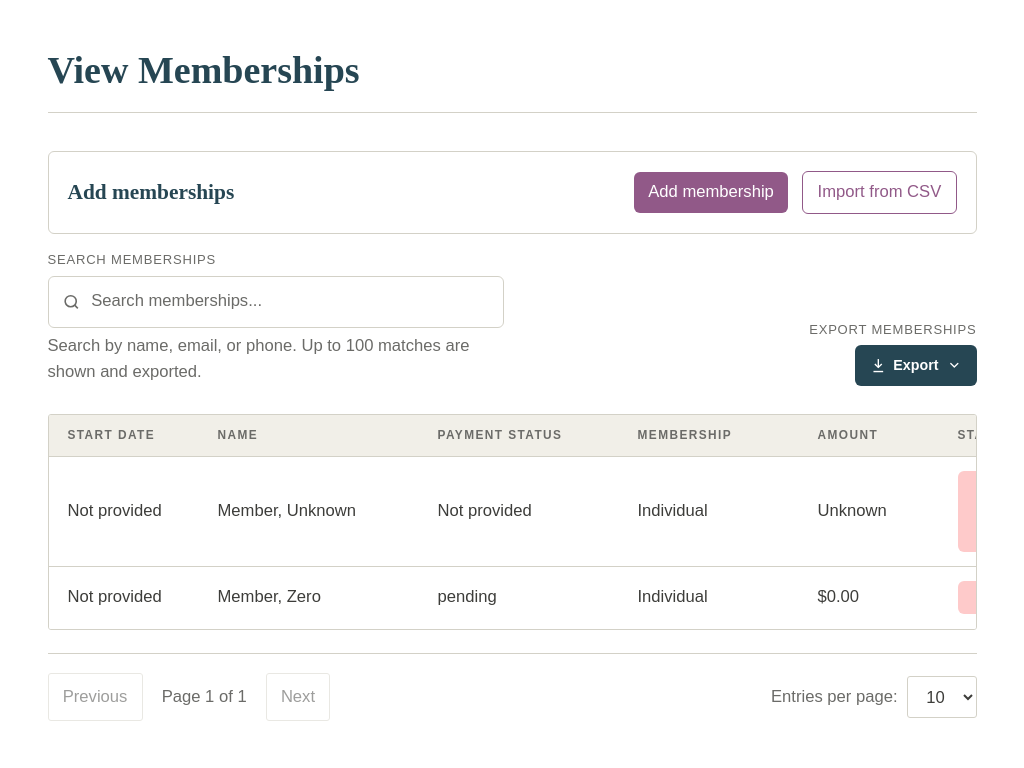
membership table nullable values › pauses revision polling while adding a membership and resumes on cancel
This screenshot has width=1024, height=768.
Check: the table is shown, box [48,415,976,629]
Click the button "Add membership": x=711, y=192 [634,172,788,213]
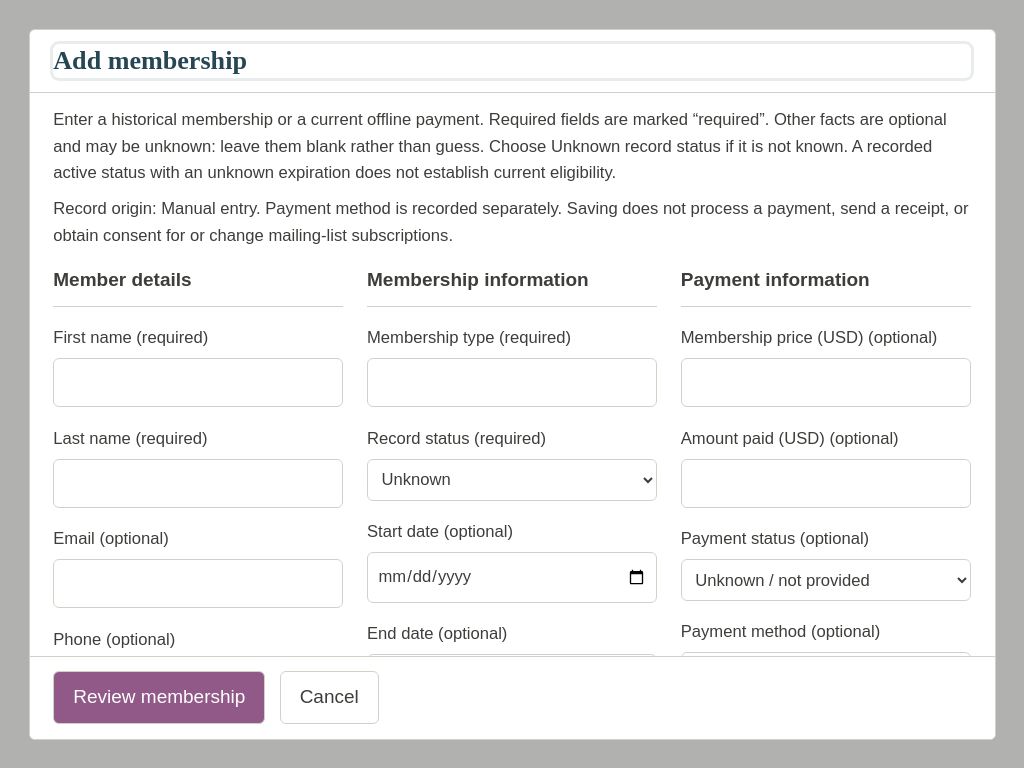
Check: the dialog "Add membership" is shown
Click the button "Cancel": x=329, y=698 [280,671,379,724]
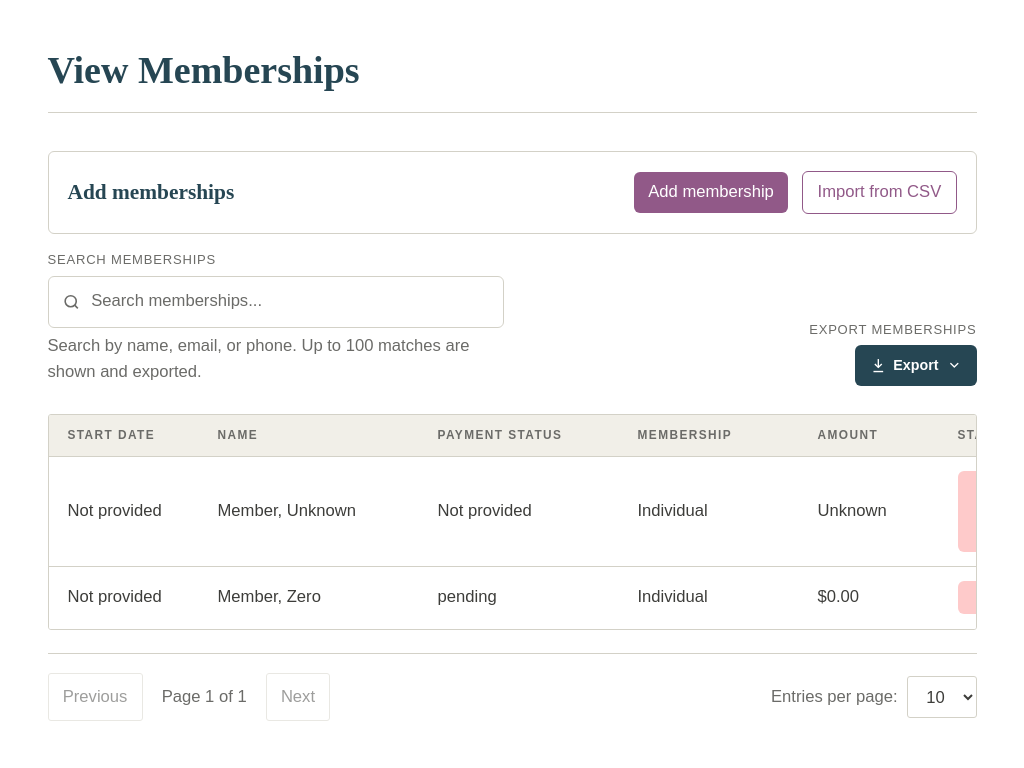
Check: the dialog is gone
